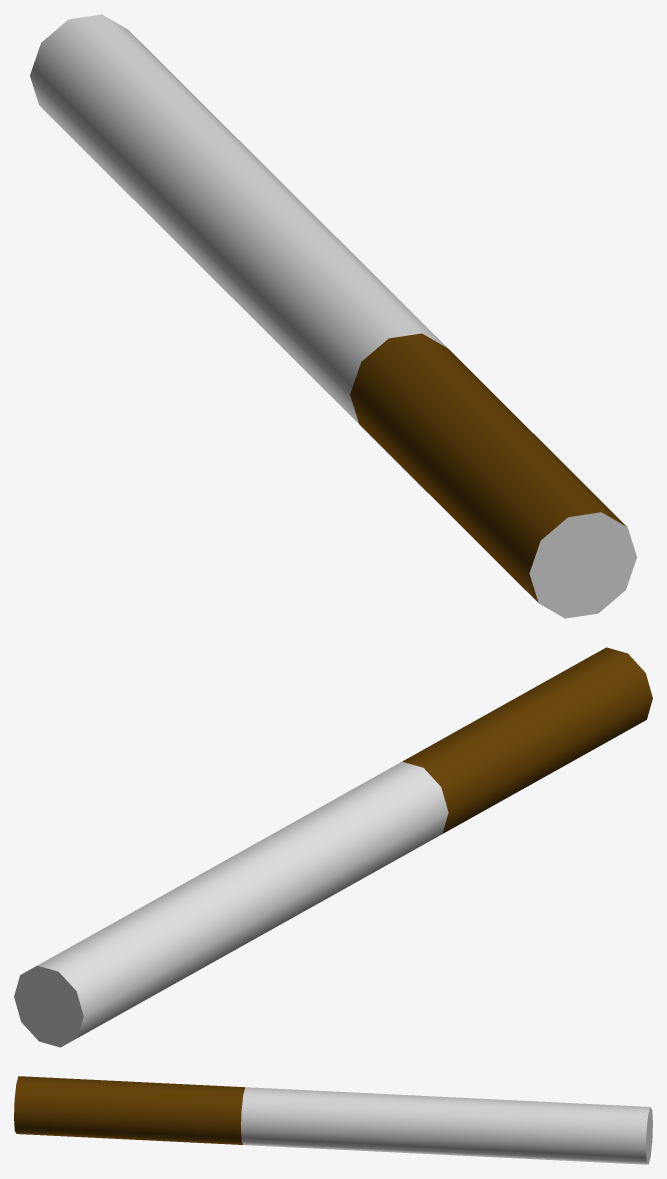
File: Eden_ciga1.fbx
3 renders of one model, top to bottom at view 1: azimuth 30°, elevation 25°; view 2: azimuth 150°, elevation 25°; view 3: azimuth 270°, elevation 25°, orthographic. The views are drawn at different scales.
Visible parts, largest first — view 1: ciga_1; view 2: ciga_1; view 3: ciga_1.
Part boxes in pixels (x1,y1,x2,y2): ciga_1: [30, 14, 636, 618]; ciga_1: [14, 647, 652, 1047]; ciga_1: [14, 1076, 652, 1164].
Size of the model in its own units: 0.000572 by 0.000246 by 0.00272.
